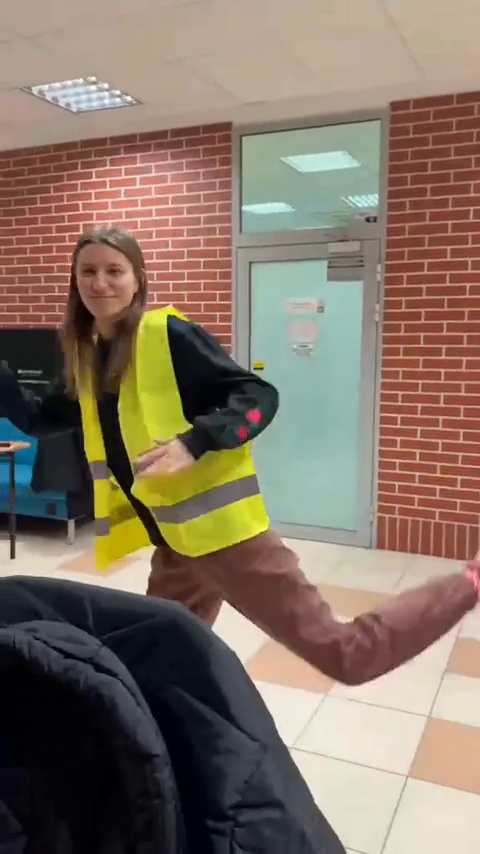vest: (45, 214, 401, 716)
